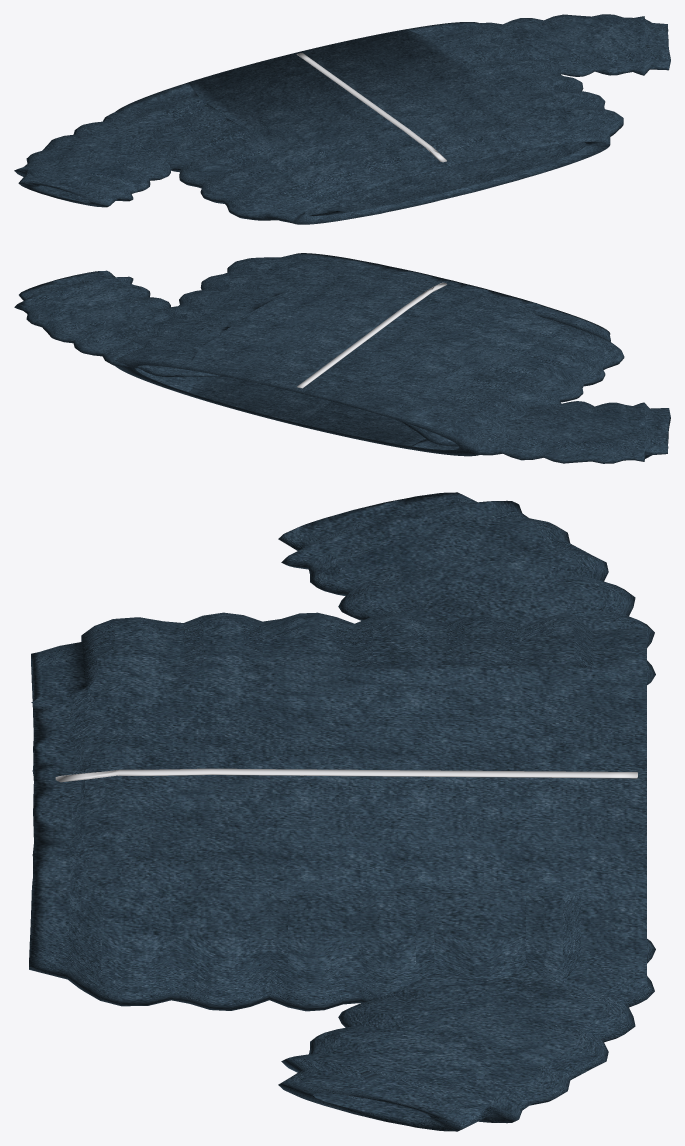
Rendered from puffer3.fbx.
The picture shows the model from 3 angles, top to bottom: view 1: azimuth 30°, elevation 25°; view 2: azimuth 150°, elevation 25°; view 3: azimuth 270°, elevation 25°; orthographic projection. The views are drawn at different scales.
Parts seen in each view (by area): view 1: puffer3; view 2: puffer3; view 3: puffer3.
Part boxes in pixels (bbox=[...]): puffer3: bbox=[14, 14, 670, 224]; puffer3: bbox=[14, 253, 670, 463]; puffer3: bbox=[29, 492, 655, 1131].
Size of the model in its own units: 1.56 by 0.0929 by 0.6522.
2 materials, 1 textured.
